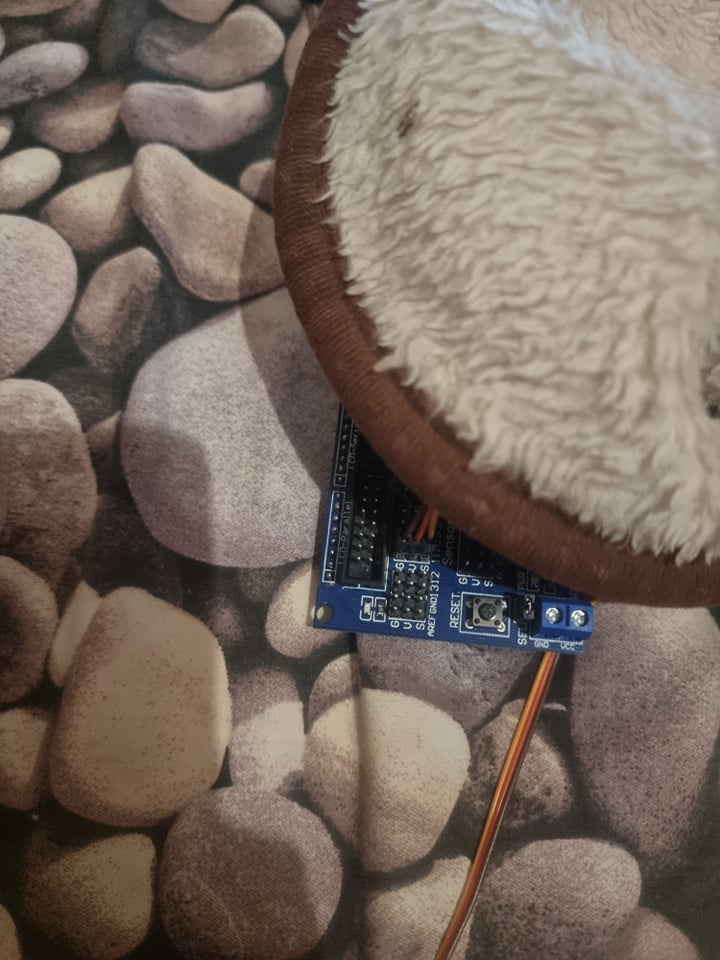5V EXPANSION: (307, 384, 595, 659)
